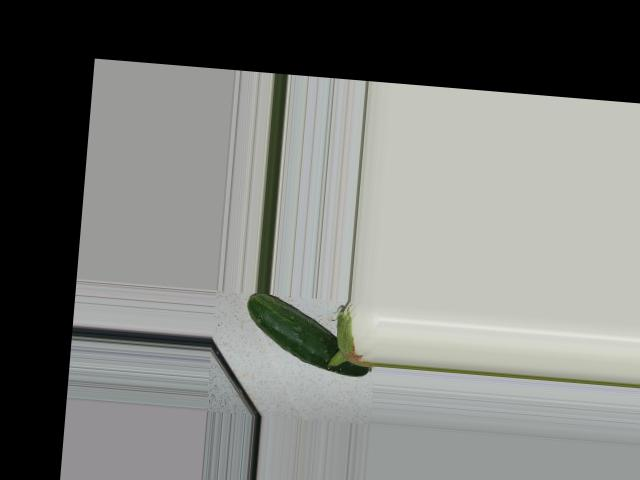cucumber: (242, 291, 377, 377)
